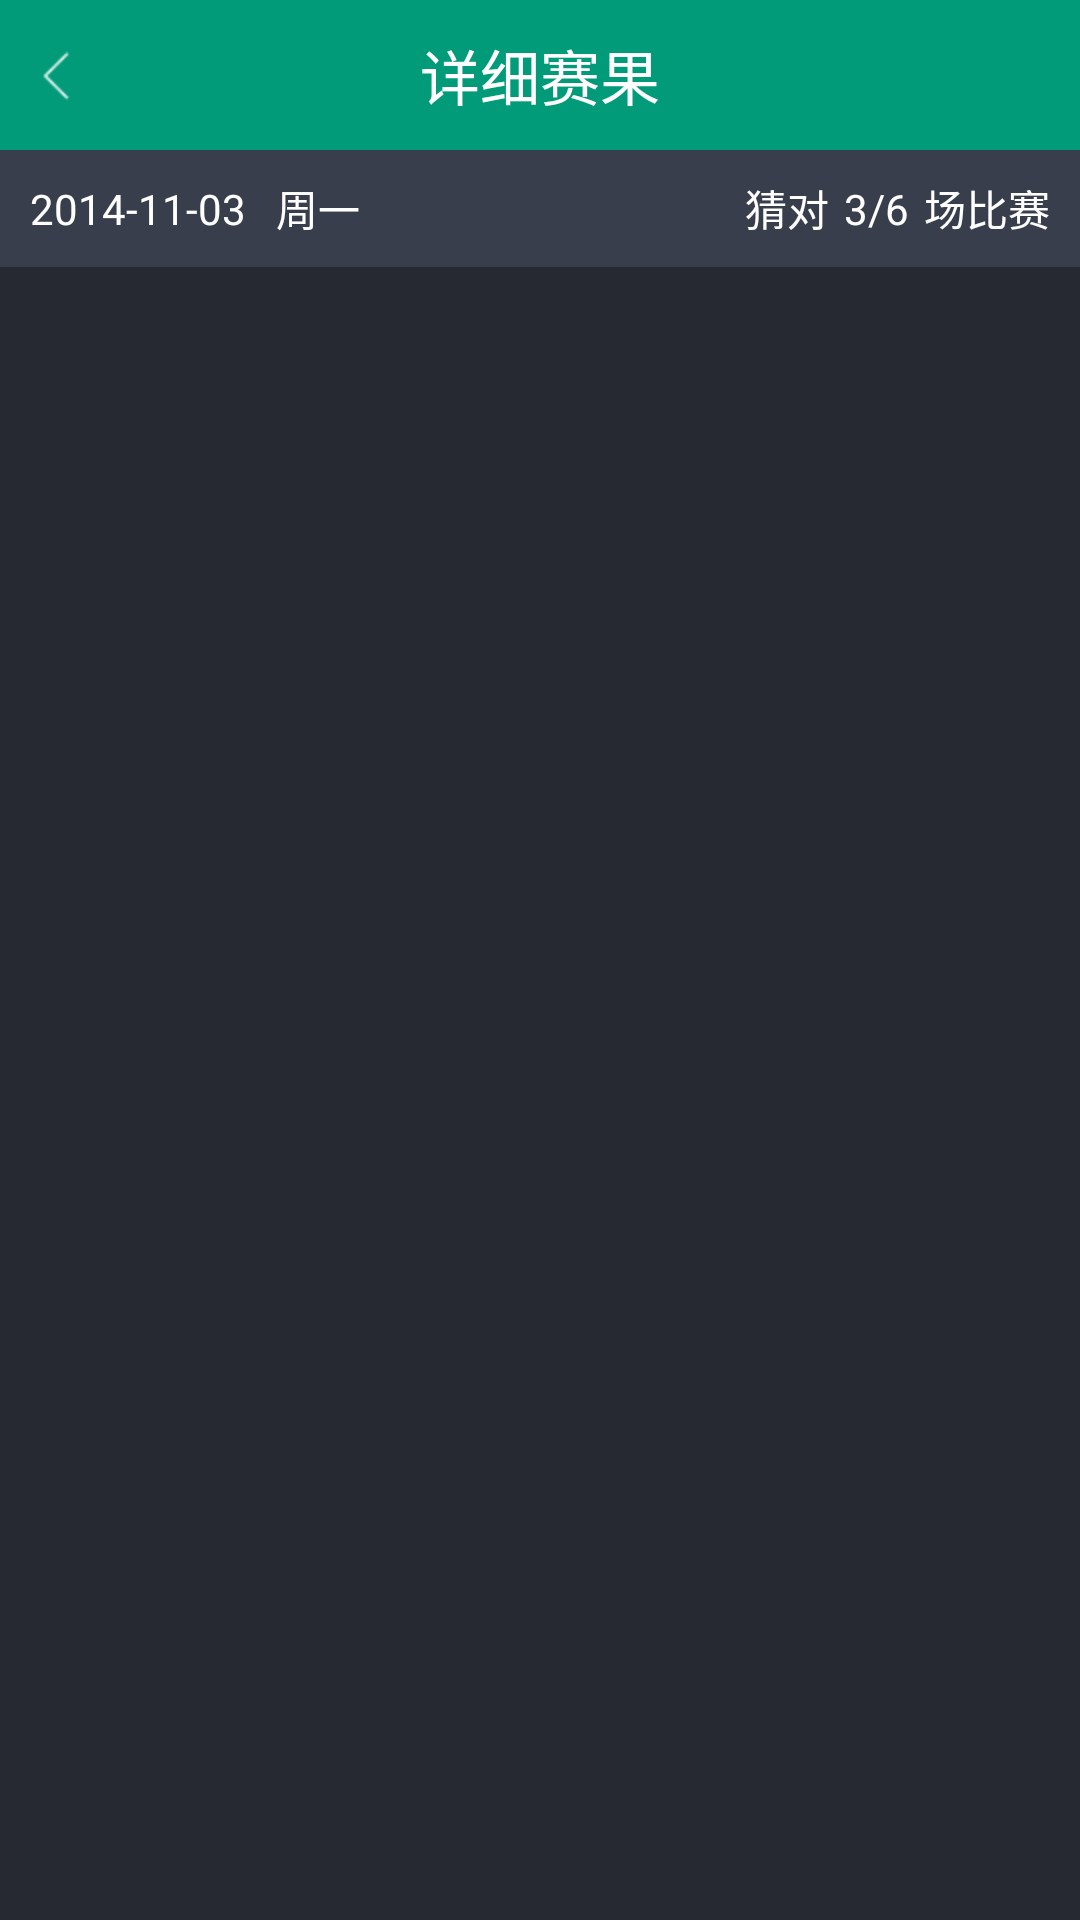

Where icons sit on this 1080*1920 app screen, as box(x1, y1, x2, y2):
back: box(43, 52, 69, 100)
